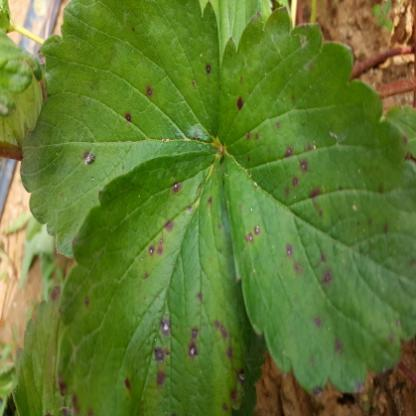Strawberry_Leaf_Spot: (219, 6, 415, 396), (15, 0, 221, 260), (57, 150, 252, 415)
